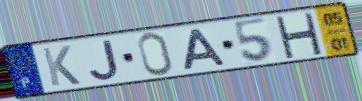0: (135, 31, 176, 78)
5: (230, 16, 276, 65)
A: (182, 26, 230, 72)
H: (273, 11, 324, 59)
J: (88, 38, 122, 82)
K: (40, 44, 83, 88)
